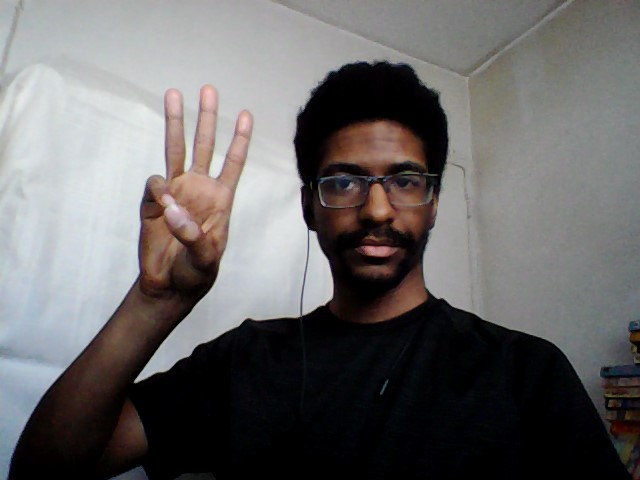w: (132, 81, 256, 294)
